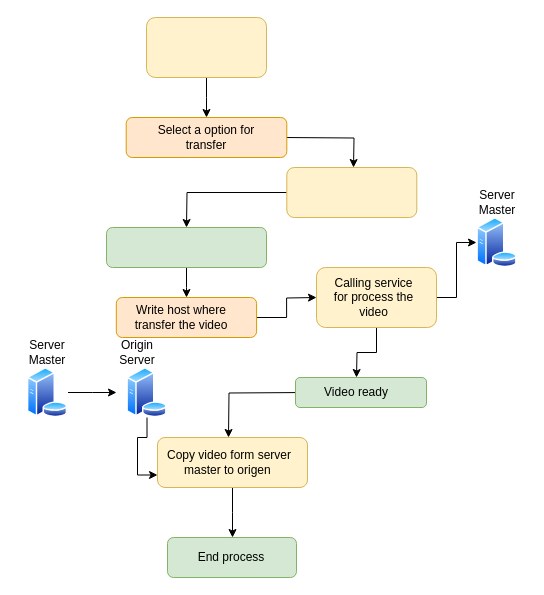
The diagram is 544 pixels wide and 595 high, and some of its shapes have lost their labels. Here are the shapes that lost their labels. From the top down, the centre of each, then its label:
pixel 206 47: Service transfer
pixel 351 192: reddit,vge,link direct
pixel 186 247: Write the point for transfer to the service
